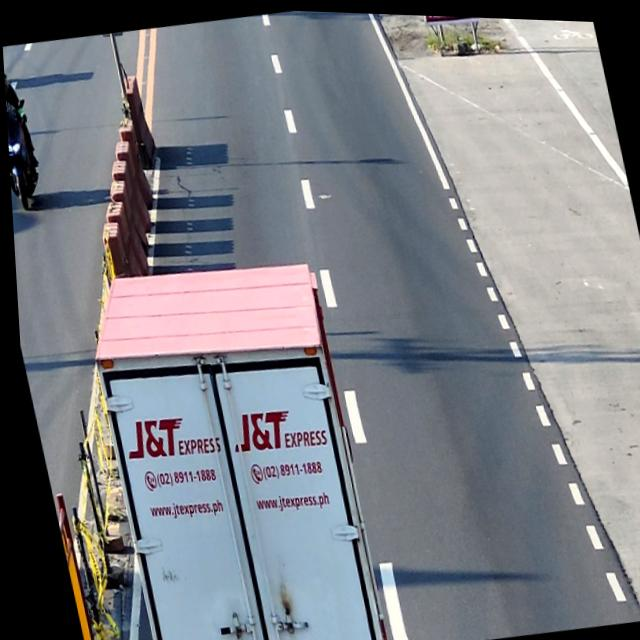Motorcycle: (4, 95, 47, 215)
Truck: (70, 244, 388, 640)
